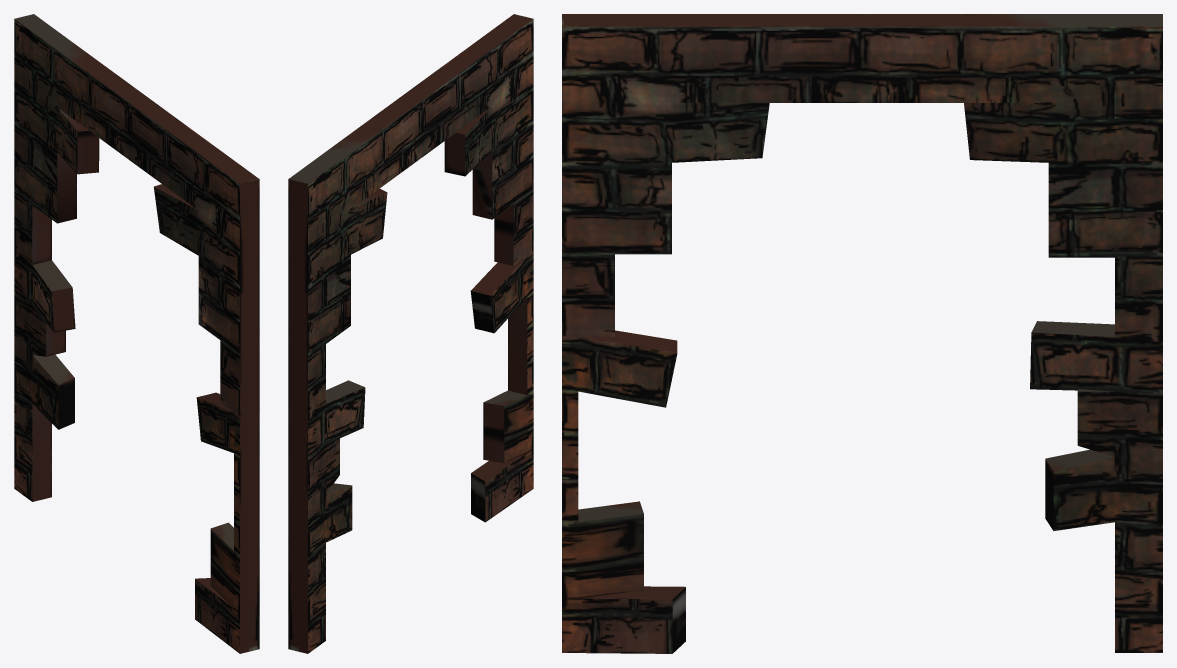
The model's file is BrickBldHoleVer_1.fbx.
The picture shows the model from 3 angles, left to right: view 1: azimuth 30°, elevation 25°; view 2: azimuth 150°, elevation 25°; view 3: azimuth 270°, elevation 25°; orthographic projection. The views are drawn at different scales.
Parts seen in each view (by area): view 1: pCube704; view 2: pCube704; view 3: pCube704.
Part boxes in pixels (x1=…): pCube704: x1=14, y1=14, x2=259, y2=653; pCube704: x1=288, y1=14, x2=533, y2=653; pCube704: x1=562, y1=14, x2=1162, y2=653.
Size of the model in its own units: 0.8044 by 11.5 by 10.
